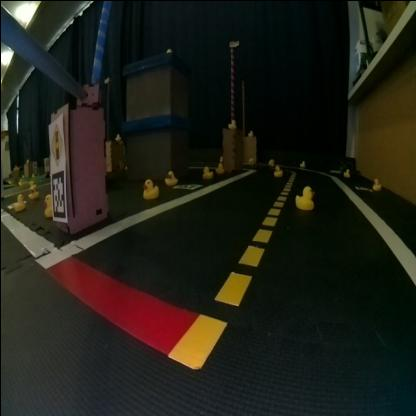Duckie: (294, 184, 314, 206), (140, 178, 156, 198), (42, 192, 52, 216), (163, 169, 173, 185), (200, 164, 210, 178), (371, 176, 380, 189), (272, 164, 280, 172), (227, 118, 234, 127), (342, 168, 348, 175), (247, 128, 252, 136), (298, 160, 304, 166)
QR code: (50, 172, 64, 218)
Signal sign: (47, 121, 63, 165)
